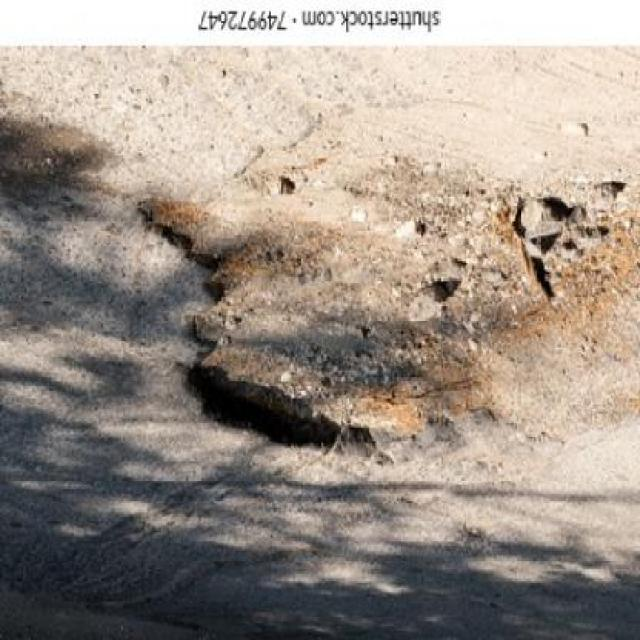pothole: (94, 108, 634, 494)
